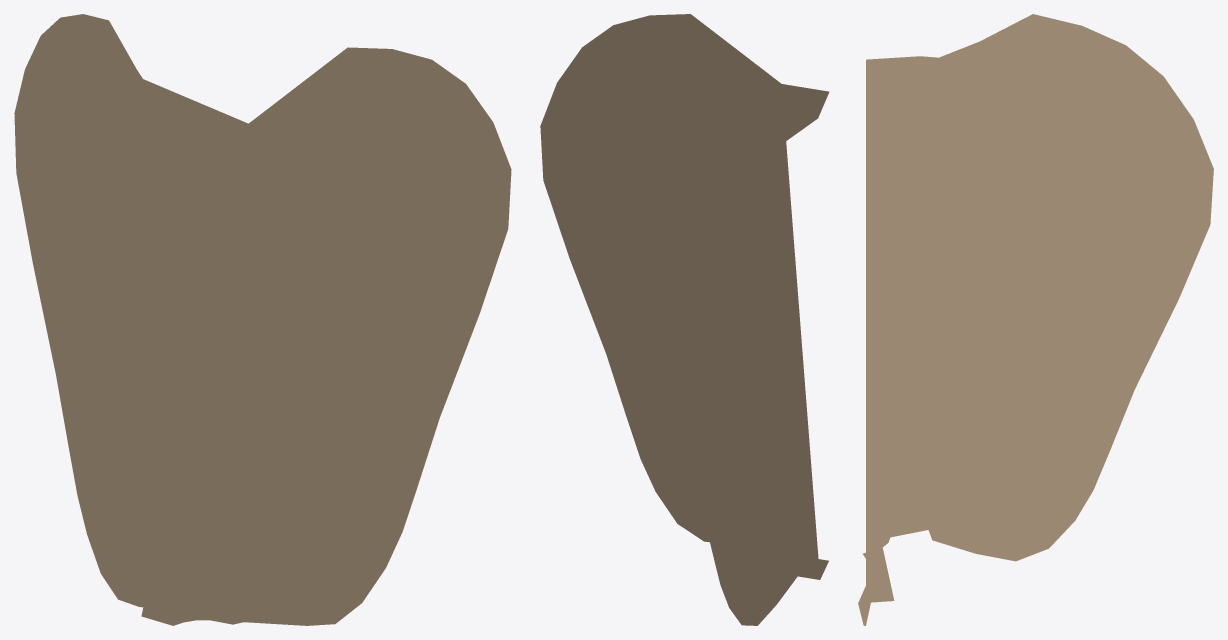
The model's file is AppleSlice.fbx.
3 renders of one model, left to right at view 1: azimuth 30°, elevation 25°; view 2: azimuth 150°, elevation 25°; view 3: azimuth 270°, elevation 25°, orthographic. The views are drawn at different scales.
Visible parts, largest first — view 1: polySurface11; view 2: polySurface11; view 3: polySurface11.
Part boxes in pixels (box(x1,y1,x2,y2)): polySurface11: box(14, 14, 511, 625); polySurface11: box(540, 14, 829, 625); polySurface11: box(858, 14, 1213, 625).
Size of the model in its own units: 1.01 by 1.64 by 0.9669.
